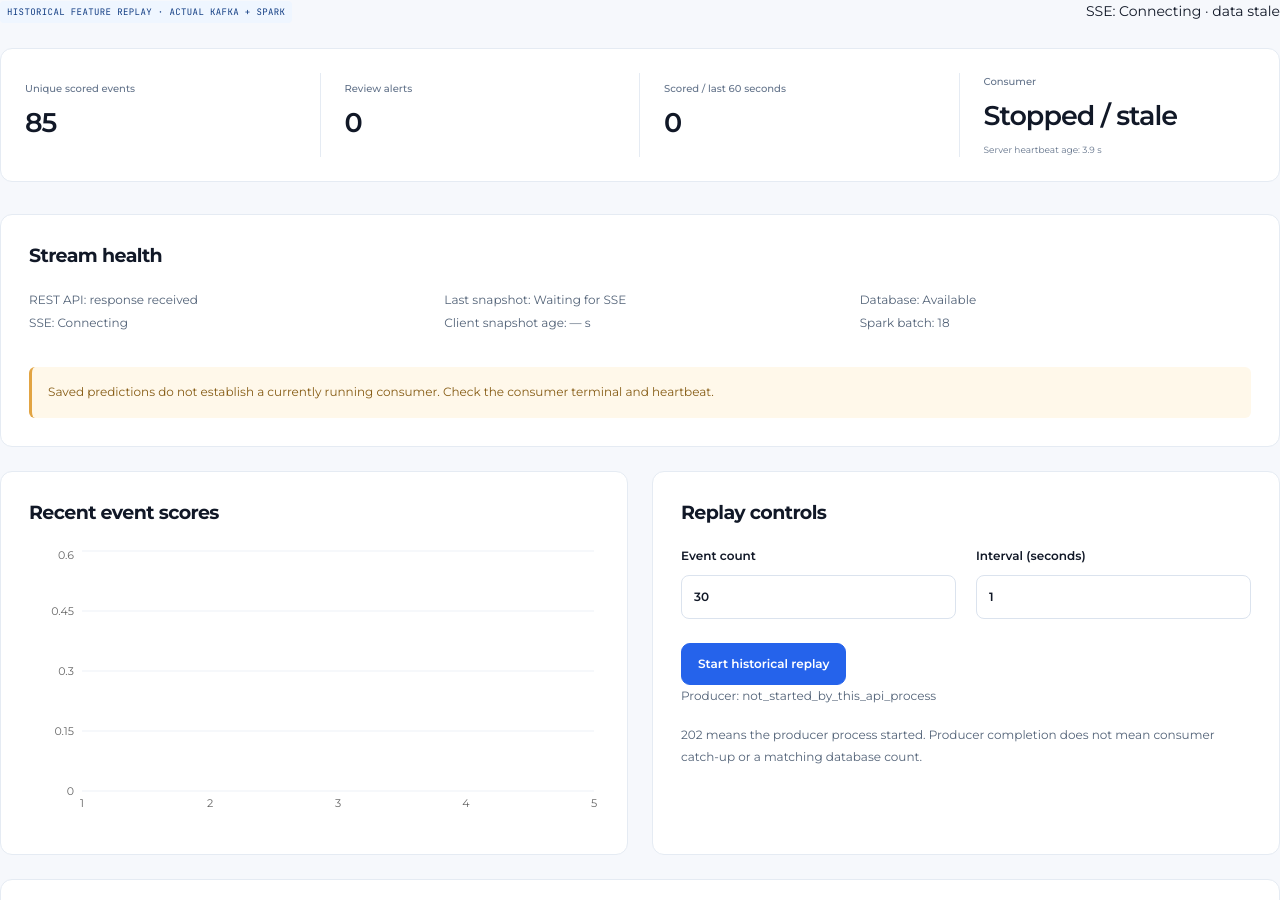
Test: streaming lifecycle › reports replay conflict without a duplicate start
This screenshot has width=1280, height=900.
Click the button "Start historical replay".
click(764, 664)  # box [681, 643, 846, 685]
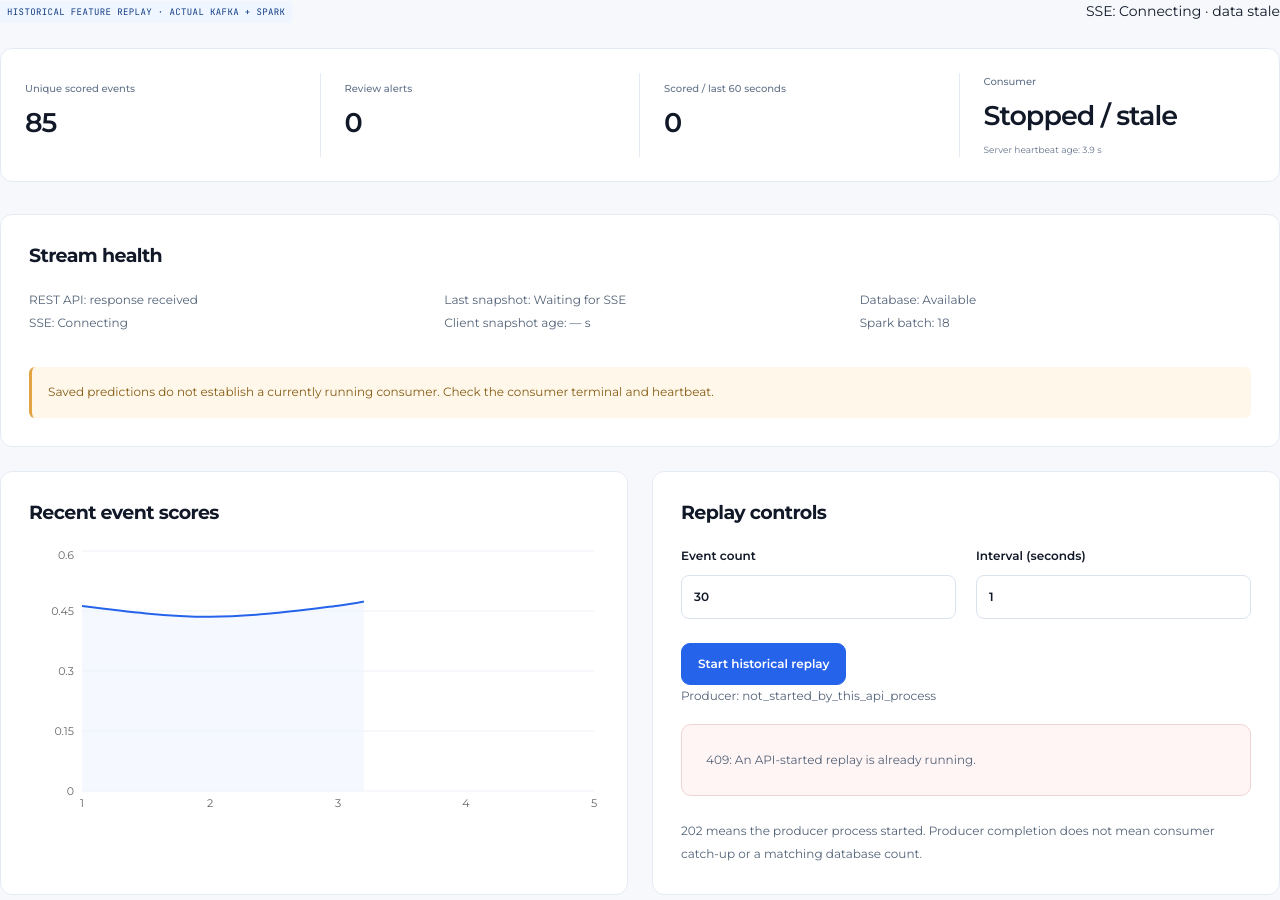
Expected: the text "409: An API-started replay is already running." is shown, [681, 724, 1251, 796]
